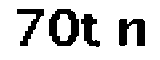0: (47, 4, 80, 50)
7: (11, 5, 46, 48)
n: (115, 15, 149, 52)
t: (80, 10, 104, 52)
